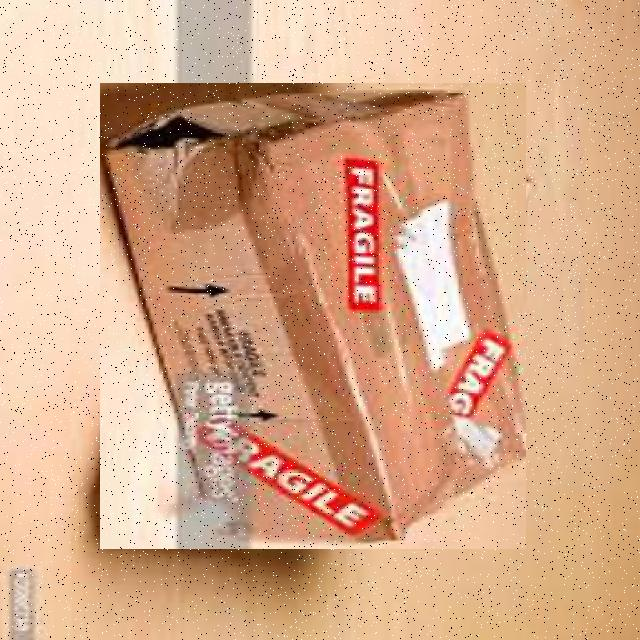defect: (100, 83, 526, 549)
